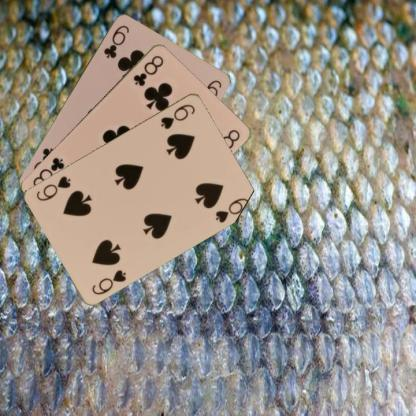6c: (101, 22, 131, 59)
6s: (89, 266, 128, 296), (158, 101, 196, 131)
8c: (130, 52, 165, 87)
